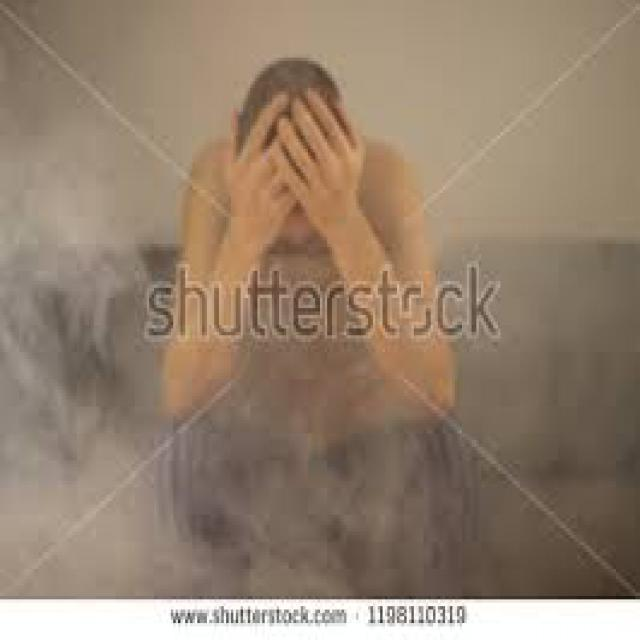Smoke: (479, 76, 632, 569), (13, 153, 161, 500)
